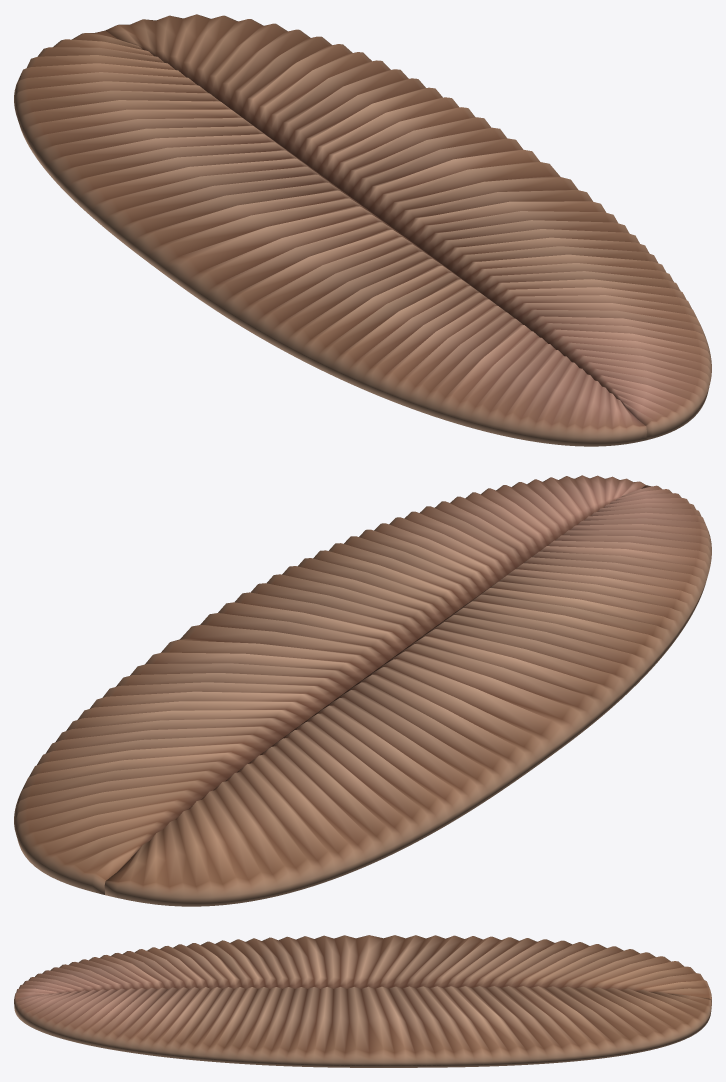
The model's file is DickinsoniaTenuis.fbx.
3 views of the same model, one above another, from view 1: azimuth 30°, elevation 25°; view 2: azimuth 150°, elevation 25°; view 3: azimuth 270°, elevation 25° (orthographic). The views are drawn at different scales.
Parts seen in each view (by area): view 1: DickinsoniaTenuis; view 2: DickinsoniaTenuis; view 3: DickinsoniaTenuis.
Part boxes in pixels (x1,y1,x2,y2): DickinsoniaTenuis: (14, 14, 711, 446); DickinsoniaTenuis: (14, 475, 711, 906); DickinsoniaTenuis: (14, 935, 711, 1067).
Size of the model in its own units: 0.68 by 0.0687 by 1.64.
